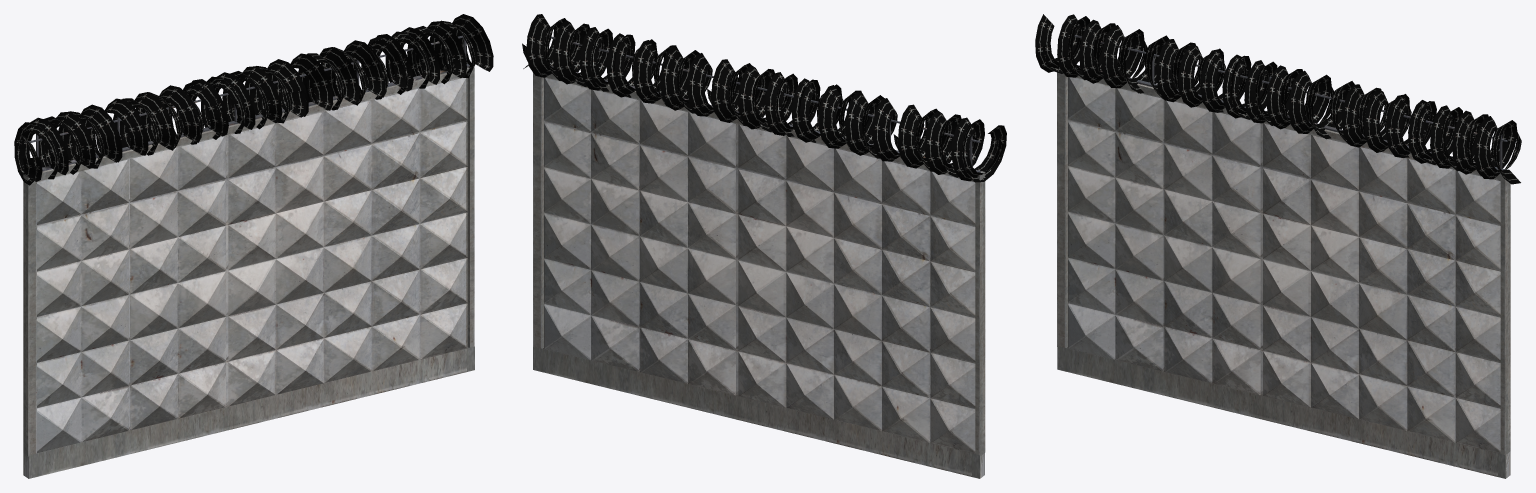
The model's file is BetonFence.FBX.
3 renders of one model, left to right at view 1: azimuth 30°, elevation 25°; view 2: azimuth 150°, elevation 25°; view 3: azimuth 330°, elevation 25°, orthographic.
Visible parts, largest first — view 1: Plane002, Wire_Ground, Box041; view 2: Plane002, Wire_Ground, Box041; view 3: Plane002, Wire_Ground, Box041.
Part boxes in pixels (<box>): Plane002: <box>23,67,474,478</box>; Wire_Ground: <box>14,14,493,185</box>; Box041: <box>29,35,469,171</box>; Plane002: <box>533,73,985,478</box>; Wire_Ground: <box>522,14,1006,182</box>; Box041: <box>545,36,980,172</box>; Plane002: <box>1057,67,1510,478</box>; Wire_Ground: <box>1035,14,1521,184</box>; Box041: <box>1074,35,1507,170</box>.
Bounding box in the file's own units: 104 × 74.21 × 12.52.
Materials: 3 (3 with a texture image).
